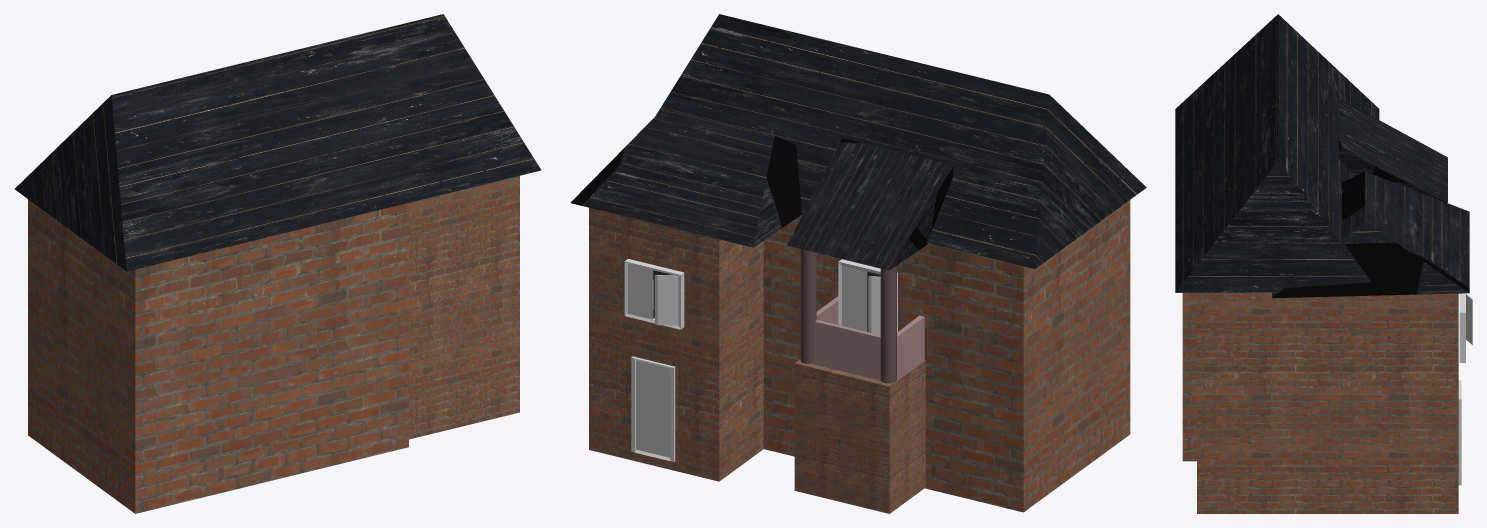
3 views of the same model, side by side, from view 1: azimuth 30°, elevation 25°; view 2: azimuth 150°, elevation 25°; view 3: azimuth 270°, elevation 25° (orthographic). The views are drawn at different scales.
Visible parts, largest first — view 1: Cube.015, Cylinder.034, Cube.003; view 2: Cube.015, Cylinder.034, Cube.003, Cylinder.035, Cube.019, Cylinder.036, Cube.028, Cube.026, Cube.027, Cube.001, Cylinder.038, Cylinder.037; view 3: Cube.003, Cylinder.034, Cylinder.035, Cylinder.036, Cube.015, Cube.027, Cube.026.
Part boxes in pixels (<box>): Cube.015: <box>28,199,408,513</box>; Cylinder.034: <box>14,14,541,271</box>; Cube.003: <box>409,175,519,439</box>; Cube.015: <box>763,200,1130,512</box>; Cylinder.034: <box>656,14,1146,268</box>; Cube.003: <box>589,207,763,481</box>; Cylinder.035: <box>570,108,803,247</box>; Cube.019: <box>794,359,925,513</box>; Cylinder.036: <box>787,138,953,270</box>; Cube.028: <box>811,296,924,383</box>; Cube.026: <box>631,356,675,461</box>; Cube.027: <box>624,259,684,329</box>; Cube.001: <box>838,259,897,334</box>; Cylinder.038: <box>880,265,896,383</box>; Cylinder.037: <box>800,249,816,363</box>; Cube.003: <box>1197,292,1458,513</box>; Cylinder.034: <box>1175,14,1379,292</box>; Cylinder.035: <box>1272,171,1469,298</box>; Cylinder.036: <box>1338,98,1447,202</box>; Cube.015: <box>1182,293,1196,461</box>; Cube.027: <box>1459,293,1472,362</box>; Cube.026: <box>1458,380,1461,485</box>.
Bounding box in the file's own units: 408 × 348 × 277.
17 materials, 6 textured.
